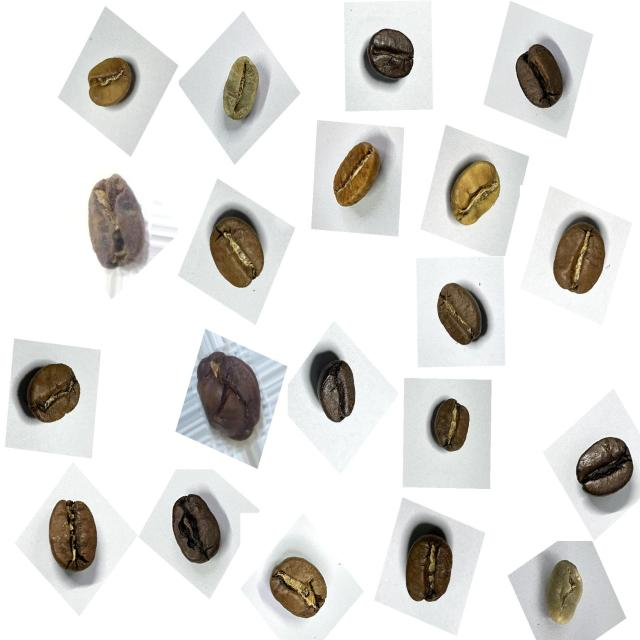bad: (188, 339, 270, 454), (79, 165, 158, 275)
dark: (502, 30, 577, 123), (162, 485, 234, 580), (566, 421, 640, 512), (307, 342, 370, 435), (353, 17, 422, 97)
green: (208, 46, 276, 133), (531, 552, 595, 640)
light: (437, 149, 514, 241), (322, 134, 393, 220), (81, 41, 148, 121)
medium: (541, 214, 622, 310), (37, 489, 113, 584), (259, 547, 340, 634), (391, 525, 467, 615), (19, 350, 94, 437), (201, 208, 276, 294), (426, 275, 496, 357), (422, 390, 481, 462)
